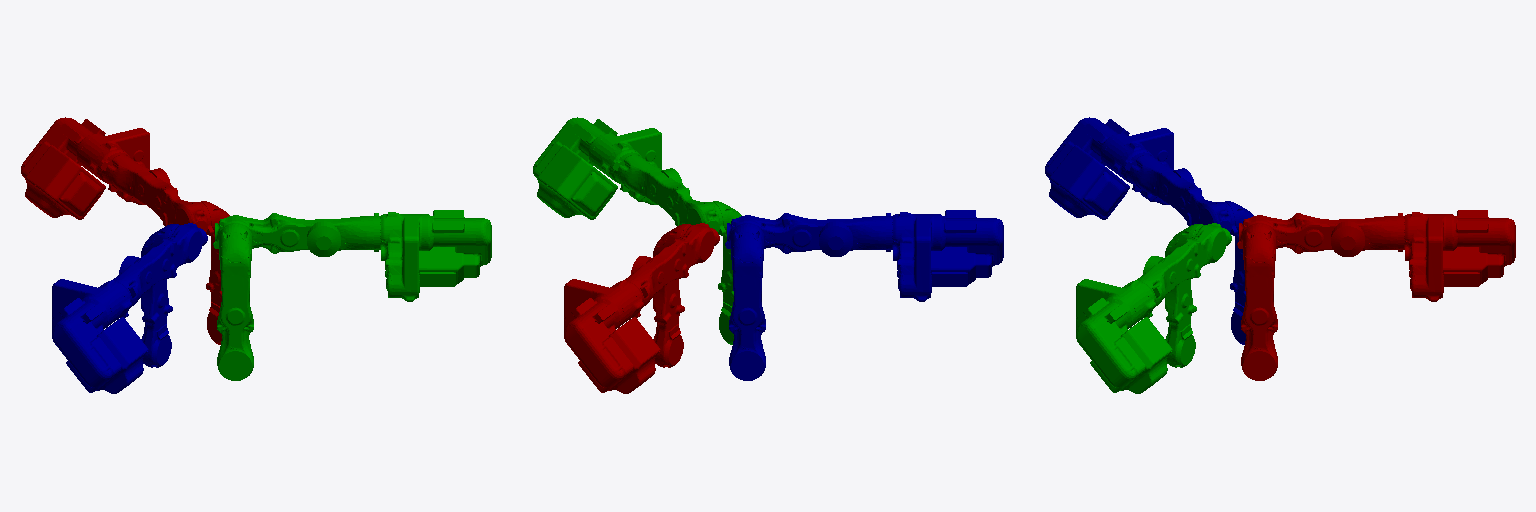
robot.urdf — trifinger_with_stage:
<?xml version="1.0" encoding="utf-8"?>
<!-- =================================================================================== -->
<!-- |    This document was autogenerated by xacro from [local-path]/ws/fingers/workspace/src/catkin/robots/robot_properties/robot_properties_fingers/xacro/trifinger_with_stage.urdf.xacro | -->
<!-- |    EDITING THIS FILE BY HAND IS NOT RECOMMENDED                                 | -->
<!-- =================================================================================== -->
<robot name="trifinger_with_stage">
  <!--
    Frames are defined such that they all align with the base frame when all
    joints are at position zero.

    In zero-configuration the origins of all joints are in one line.

    In zero-configuration the origin of the base link is exactly above the
    finger tip which should make it easy to place the finger in the world.
    -->
  <!-- Define the global base_link and place all other objects relative to it. -->
  <link name="base_link">
    <inertial>
      <origin rpy="0 0 0" xyz="0 0 0"/>
      <mass value="1"/>
      <inertia ixx="4.16666666667e-06" ixy="0" ixz="0" iyy="4.16666666667e-06" iyz="0" izz="4.16666666667e-06"/>
    </inertial>
  </link>
  <!-- Define the upper holder -->
  <link name="upper_holder_link"/>
  <joint name="base_to_upper_holder_joint" type="fixed">
    <parent link="base_link"/>
    <child link="upper_holder_link"/>
    <origin xyz="0 0 0.34"/>
  </joint>
  <material name="finger_0_material">
    <color rgba="0.6 0.0 0.0 1.0"/>
  </material>
  <material name="finger_120_material">
    <color rgba="0.0 0.6 0.0 1.0"/>
  </material>
  <material name="finger_240_material">
    <color rgba="0.0 0.0 0.6 1.0"/>
  </material>
  <!--
        Fixed links for the finger base (parts where the upper link is mounted).
        -->
  <link name="finger_base_link_0">
    <visual>
      <origin rpy="0 0 0" xyz="0 0.179 0"/>
      <geometry>
        <mesh filename="package://robot_properties_fingers/meshes/stl/SIM__BL-Finger_Base.stl" scale="1 1 1"/>
      </geometry>
      <material name="finger_0_material"/>
    </visual>
    <collision>
      <origin rpy="0 0 0" xyz="0 0.179 0"/>
      <geometry>
        <mesh filename="package://robot_properties_fingers/meshes/stl/SIM__BL-Finger_Base.stl" scale="1 1 1"/>
      </geometry>
    </collision>
    <inertial>
      <origin rpy="0 0 0" xyz="0 0 0"/>
      <mass value="1"/>
      <inertia ixx="0.000416666666667" ixy="0" ixz="0" iyy="0.000416666666667" iyz="0" izz="0.000416666666667"/>
    </inertial>
  </link>
  <!-- The movable links (upper, middle and lower) of the finger. -->
  <!-- TODO inertia parameters don't look correct, they cant be same for upper and middle! -->
  <link name="finger_upper_link_0">
    <visual>
      <origin rpy="0 0 0" xyz="0 -0.02695 0"/>
      <geometry>
        <mesh filename="package://robot_properties_fingers/meshes/stl/SIM__BL-Finger_Proximal.stl" scale="1 1 1"/>
      </geometry>
      <material name="finger_0_material"/>
    </visual>
    <collision>
      <origin rpy="0 0 0" xyz="0 -0.02695 0"/>
      <geometry>
        <mesh filename="package://robot_properties_fingers/meshes/stl/SIM__BL-Finger_Proximal.stl" scale="1 1 1"/>
      </geometry>
    </collision>
    <inertial>
      <origin rpy="0 0 0" xyz="0 0.06 0"/>
      <mass value="0.2"/>
      <inertia ixx="0.000353333333333" ixy="0" ixz="0" iyy="5.33333333333e-05" iyz="0" izz="0.000353333333333"/>
    </inertial>
  </link>
  <link name="finger_middle_link_0">
    <visual>
      <origin rpy="1.57079632679 0 0" xyz="0.014 0 0"/>
      <geometry>
        <mesh filename="package://robot_properties_fingers/meshes/stl/SIM__BL-Finger_Intermediate.stl" scale="1 1 1"/>
      </geometry>
      <material name="finger_0_material"/>
    </visual>
    <collision>
      <origin rpy="1.57079632679 0 0" xyz="0.014 0 0"/>
      <geometry>
        <mesh filename="package://robot_properties_fingers/meshes/stl/SIM__BL-Finger_Intermediate.stl" scale="1 1 1"/>
      </geometry>
    </collision>
    <inertial>
      <origin rpy="0 0 0" xyz="0.028 0 -0.08"/>
      <mass value="0.2"/>
      <inertia ixx="0.000353333333333" ixy="0" ixz="0" iyy="0.000353333333333" iyz="0" izz="5.33333333333e-05"/>
    </inertial>
  </link>
  <link name="finger_lower_link_0">
    <visual>
      <origin rpy="1.57079632679 0 0" xyz="0.014 0 0"/>
      <geometry>
        <mesh filename="package://robot_properties_fingers/meshes/stl/SIM_BL_FINGER_TIP_LINK.stl" scale="1 1 1"/>
      </geometry>
      <material name="finger_0_material"/>
    </visual>
    <collision>
      <origin rpy="1.57079632679 0 0" xyz="0.014 0 0"/>
      <geometry>
        <mesh filename="package://robot_properties_fingers/meshes/stl/SIM_BL_FINGER_TIP_LINK.stl" scale="1 1 1"/>
      </geometry>
    </collision>
    <inertial>
      <origin rpy="0 0 0" xyz="0 0 -0.06"/>
      <mass value="0.01"/>
      <inertia ixx="1.66666666667e-05" ixy="0" ixz="0" iyy="1.66666666667e-05" iyz="0" izz="6.66666666667e-07"/>
    </inertial>
  </link>
  <!-- fixed link for finger tip -->
  <link name="finger_tip_link_0">
    <inertial>
      <origin rpy="0 0 0" xyz="0 0 0"/>
      <mass value="0.02"/>
      <inertia ixx="3.33333333333e-07" ixy="0" ixz="0" iyy="3.33333333333e-07" iyz="0" izz="3.33333333333e-07"/>
    </inertial>
  </link>
  <joint name="finger_lower_to_tip_joint_0" type="fixed">
    <parent link="finger_lower_link_0"/>
    <child link="finger_tip_link_0"/>
    <origin xyz="0 0 -0.16"/>
  </joint>
  <!-- kinematics -->
  <!-- TODO: joint limits are based on values from wiki
        (https://atlas.is.localnet/confluence/display/AMDW/Forward+Kinematics) but
        should be verified on the real system (especially the finger tip limits look
        a bit too big when visualizing the model. -->
  <joint name="finger_base_to_upper_joint_0" type="revolute">
    <parent link="finger_base_link_0"/>
    <child link="finger_upper_link_0"/>
    <limit effort="1000" lower="-1.57079632679" upper="1.57079632679" velocity="1000"/>
    <axis xyz="0 1 0"/>
    <origin rpy="0 0 0" xyz="0 0 0"/>
  </joint>
  <joint name="finger_upper_to_middle_joint_0" type="revolute">
    <parent link="finger_upper_link_0"/>
    <child link="finger_middle_link_0"/>
    <limit effort="1000" lower="-1.3526301703" upper="4.49422282389" velocity="1000"/>
    <axis xyz="-1 0 0"/>
    <origin rpy="0 0 0" xyz="0 0 0"/>
  </joint>
  <joint name="finger_middle_to_lower_joint_0" type="revolute">
    <parent link="finger_middle_link_0"/>
    <child link="finger_lower_link_0"/>
    <limit effort="1000" lower="-3.00196631343" upper="3.00196631343" velocity="1000"/>
    <axis xyz="1 0 0"/>
    <origin rpy="0 0 0" xyz="0 0 -0.16"/>
  </joint>
  <!--
        Fixed links for the finger base (parts where the upper link is mounted).
        -->
  <link name="finger_base_link_120">
    <visual>
      <origin rpy="0 0 0" xyz="0 0.179 0"/>
      <geometry>
        <mesh filename="package://robot_properties_fingers/meshes/stl/SIM__BL-Finger_Base.stl" scale="1 1 1"/>
      </geometry>
      <material name="finger_120_material"/>
    </visual>
    <collision>
      <origin rpy="0 0 0" xyz="0 0.179 0"/>
      <geometry>
        <mesh filename="package://robot_properties_fingers/meshes/stl/SIM__BL-Finger_Base.stl" scale="1 1 1"/>
      </geometry>
    </collision>
    <inertial>
      <origin rpy="0 0 0" xyz="0 0 0"/>
      <mass value="1"/>
      <inertia ixx="0.000416666666667" ixy="0" ixz="0" iyy="0.000416666666667" iyz="0" izz="0.000416666666667"/>
    </inertial>
  </link>
  <!-- The movable links (upper, middle and lower) of the finger. -->
  <!-- TODO inertia parameters don't look correct, they cant be same for upper and middle! -->
  <link name="finger_upper_link_120">
    <visual>
      <origin rpy="0 0 0" xyz="0 -0.02695 0"/>
      <geometry>
        <mesh filename="package://robot_properties_fingers/meshes/stl/SIM__BL-Finger_Proximal.stl" scale="1 1 1"/>
      </geometry>
      <material name="finger_120_material"/>
    </visual>
    <collision>
      <origin rpy="0 0 0" xyz="0 -0.02695 0"/>
      <geometry>
        <mesh filename="package://robot_properties_fingers/meshes/stl/SIM__BL-Finger_Proximal.stl" scale="1 1 1"/>
      </geometry>
    </collision>
    <inertial>
      <origin rpy="0 0 0" xyz="0 0.06 0"/>
      <mass value="0.2"/>
      <inertia ixx="0.000353333333333" ixy="0" ixz="0" iyy="5.33333333333e-05" iyz="0" izz="0.000353333333333"/>
    </inertial>
  </link>
  <link name="finger_middle_link_120">
    <visual>
      <origin rpy="1.57079632679 0 0" xyz="0.014 0 0"/>
      <geometry>
        <mesh filename="package://robot_properties_fingers/meshes/stl/SIM__BL-Finger_Intermediate.stl" scale="1 1 1"/>
      </geometry>
      <material name="finger_120_material"/>
    </visual>
    <collision>
      <origin rpy="1.57079632679 0 0" xyz="0.014 0 0"/>
      <geometry>
        <mesh filename="package://robot_properties_fingers/meshes/stl/SIM__BL-Finger_Intermediate.stl" scale="1 1 1"/>
      </geometry>
    </collision>
    <inertial>
      <origin rpy="0 0 0" xyz="0.028 0 -0.08"/>
      <mass value="0.2"/>
      <inertia ixx="0.000353333333333" ixy="0" ixz="0" iyy="0.000353333333333" iyz="0" izz="5.33333333333e-05"/>
    </inertial>
  </link>
  <link name="finger_lower_link_120">
    <visual>
      <origin rpy="1.57079632679 0 0" xyz="0.014 0 0"/>
      <geometry>
        <mesh filename="package://robot_properties_fingers/meshes/stl/SIM_BL_FINGER_TIP_LINK.stl" scale="1 1 1"/>
      </geometry>
      <material name="finger_120_material"/>
    </visual>
    <collision>
      <origin rpy="1.57079632679 0 0" xyz="0.014 0 0"/>
      <geometry>
        <mesh filename="package://robot_properties_fingers/meshes/stl/SIM_BL_FINGER_TIP_LINK.stl" scale="1 1 1"/>
      </geometry>
    </collision>
    <inertial>
      <origin rpy="0 0 0" xyz="0 0 -0.06"/>
      <mass value="0.01"/>
      <inertia ixx="1.66666666667e-05" ixy="0" ixz="0" iyy="1.66666666667e-05" iyz="0" izz="6.66666666667e-07"/>
    </inertial>
  </link>
  <!-- fixed link for finger tip -->
  <link name="finger_tip_link_120">
    <inertial>
      <origin rpy="0 0 0" xyz="0 0 0"/>
      <mass value="0.02"/>
      <inertia ixx="3.33333333333e-07" ixy="0" ixz="0" iyy="3.33333333333e-07" iyz="0" izz="3.33333333333e-07"/>
    </inertial>
  </link>
  <joint name="finger_lower_to_tip_joint_120" type="fixed">
    <parent link="finger_lower_link_120"/>
    <child link="finger_tip_link_120"/>
    <origin xyz="0 0 -0.16"/>
  </joint>
  <!-- kinematics -->
  <!-- TODO: joint limits are based on values from wiki
        (https://atlas.is.localnet/confluence/display/AMDW/Forward+Kinematics) but
        should be verified on the real system (especially the finger tip limits look
        a bit too big when visualizing the model. -->
  <joint name="finger_base_to_upper_joint_120" type="revolute">
    <parent link="finger_base_link_120"/>
    <child link="finger_upper_link_120"/>
    <limit effort="1000" lower="-1.57079632679" upper="1.57079632679" velocity="1000"/>
    <axis xyz="0 1 0"/>
    <origin rpy="0 0 0" xyz="0 0 0"/>
  </joint>
  <joint name="finger_upper_to_middle_joint_120" type="revolute">
    <parent link="finger_upper_link_120"/>
    <child link="finger_middle_link_120"/>
    <limit effort="1000" lower="-1.3526301703" upper="4.49422282389" velocity="1000"/>
    <axis xyz="-1 0 0"/>
    <origin rpy="0 0 0" xyz="0 0 0"/>
  </joint>
  <joint name="finger_middle_to_lower_joint_120" type="revolute">
    <parent link="finger_middle_link_120"/>
    <child link="finger_lower_link_120"/>
    <limit effort="1000" lower="-3.00196631343" upper="3.00196631343" velocity="1000"/>
    <axis xyz="1 0 0"/>
    <origin rpy="0 0 0" xyz="0 0 -0.16"/>
  </joint>
  <!--
        Fixed links for the finger base (parts where the upper link is mounted).
        -->
  <link name="finger_base_link_240">
    <visual>
      <origin rpy="0 0 0" xyz="0 0.179 0"/>
      <geometry>
        <mesh filename="package://robot_properties_fingers/meshes/stl/SIM__BL-Finger_Base.stl" scale="1 1 1"/>
      </geometry>
      <material name="finger_240_material"/>
    </visual>
    <collision>
      <origin rpy="0 0 0" xyz="0 0.179 0"/>
      <geometry>
        <mesh filename="package://robot_properties_fingers/meshes/stl/SIM__BL-Finger_Base.stl" scale="1 1 1"/>
      </geometry>
    </collision>
    <inertial>
      <origin rpy="0 0 0" xyz="0 0 0"/>
      <mass value="1"/>
      <inertia ixx="0.000416666666667" ixy="0" ixz="0" iyy="0.000416666666667" iyz="0" izz="0.000416666666667"/>
    </inertial>
  </link>
  <!-- The movable links (upper, middle and lower) of the finger. -->
  <!-- TODO inertia parameters don't look correct, they cant be same for upper and middle! -->
  <link name="finger_upper_link_240">
    <visual>
      <origin rpy="0 0 0" xyz="0 -0.02695 0"/>
      <geometry>
        <mesh filename="package://robot_properties_fingers/meshes/stl/SIM__BL-Finger_Proximal.stl" scale="1 1 1"/>
      </geometry>
      <material name="finger_240_material"/>
    </visual>
    <collision>
      <origin rpy="0 0 0" xyz="0 -0.02695 0"/>
      <geometry>
        <mesh filename="package://robot_properties_fingers/meshes/stl/SIM__BL-Finger_Proximal.stl" scale="1 1 1"/>
      </geometry>
    </collision>
    <inertial>
      <origin rpy="0 0 0" xyz="0 0.06 0"/>
      <mass value="0.2"/>
      <inertia ixx="0.000353333333333" ixy="0" ixz="0" iyy="5.33333333333e-05" iyz="0" izz="0.000353333333333"/>
    </inertial>
  </link>
  <link name="finger_middle_link_240">
    <visual>
      <origin rpy="1.57079632679 0 0" xyz="0.014 0 0"/>
      <geometry>
        <mesh filename="package://robot_properties_fingers/meshes/stl/SIM__BL-Finger_Intermediate.stl" scale="1 1 1"/>
      </geometry>
      <material name="finger_240_material"/>
    </visual>
    <collision>
      <origin rpy="1.57079632679 0 0" xyz="0.014 0 0"/>
      <geometry>
        <mesh filename="package://robot_properties_fingers/meshes/stl/SIM__BL-Finger_Intermediate.stl" scale="1 1 1"/>
      </geometry>
    </collision>
    <inertial>
      <origin rpy="0 0 0" xyz="0.028 0 -0.08"/>
      <mass value="0.2"/>
      <inertia ixx="0.000353333333333" ixy="0" ixz="0" iyy="0.000353333333333" iyz="0" izz="5.33333333333e-05"/>
    </inertial>
  </link>
  <link name="finger_lower_link_240">
    <visual>
      <origin rpy="1.57079632679 0 0" xyz="0.014 0 0"/>
      <geometry>
        <mesh filename="package://robot_properties_fingers/meshes/stl/SIM_BL_FINGER_TIP_LINK.stl" scale="1 1 1"/>
      </geometry>
      <material name="finger_240_material"/>
    </visual>
    <collision>
      <origin rpy="1.57079632679 0 0" xyz="0.014 0 0"/>
      <geometry>
        <mesh filename="package://robot_properties_fingers/meshes/stl/SIM_BL_FINGER_TIP_LINK.stl" scale="1 1 1"/>
      </geometry>
    </collision>
    <inertial>
      <origin rpy="0 0 0" xyz="0 0 -0.06"/>
      <mass value="0.01"/>
      <inertia ixx="1.66666666667e-05" ixy="0" ixz="0" iyy="1.66666666667e-05" iyz="0" izz="6.66666666667e-07"/>
    </inertial>
  </link>
  <!-- fixed link for finger tip -->
  <link name="finger_tip_link_240">
    <inertial>
      <origin rpy="0 0 0" xyz="0 0 0"/>
      <mass value="0.02"/>
      <inertia ixx="3.33333333333e-07" ixy="0" ixz="0" iyy="3.33333333333e-07" iyz="0" izz="3.33333333333e-07"/>
    </inertial>
  </link>
  <joint name="finger_lower_to_tip_joint_240" type="fixed">
    <parent link="finger_lower_link_240"/>
    <child link="finger_tip_link_240"/>
    <origin xyz="0 0 -0.16"/>
  </joint>
  <!-- kinematics -->
  <!-- TODO: joint limits are based on values from wiki
        (https://atlas.is.localnet/confluence/display/AMDW/Forward+Kinematics) but
        should be verified on the real system (especially the finger tip limits look
        a bit too big when visualizing the model. -->
  <joint name="finger_base_to_upper_joint_240" type="revolute">
    <parent link="finger_base_link_240"/>
    <child link="finger_upper_link_240"/>
    <limit effort="1000" lower="-1.57079632679" upper="1.57079632679" velocity="1000"/>
    <axis xyz="0 1 0"/>
    <origin rpy="0 0 0" xyz="0 0 0"/>
  </joint>
  <joint name="finger_upper_to_middle_joint_240" type="revolute">
    <parent link="finger_upper_link_240"/>
    <child link="finger_middle_link_240"/>
    <limit effort="1000" lower="-1.3526301703" upper="4.49422282389" velocity="1000"/>
    <axis xyz="-1 0 0"/>
    <origin rpy="0 0 0" xyz="0 0 0"/>
  </joint>
  <joint name="finger_middle_to_lower_joint_240" type="revolute">
    <parent link="finger_middle_link_240"/>
    <child link="finger_lower_link_240"/>
    <limit effort="1000" lower="-3.00196631343" upper="3.00196631343" velocity="1000"/>
    <axis xyz="1 0 0"/>
    <origin rpy="0 0 0" xyz="0 0 -0.16"/>
  </joint>
  <joint name="holder_to_finger_0" type="fixed">
    <parent link="upper_holder_link"/>
    <child link="finger_base_link_0"/>
    <origin rpy="0 0 0" xyz="0.0 0.04 0"/>
  </joint>
  <joint name="holder_to_finger_120" type="fixed">
    <parent link="upper_holder_link"/>
    <child link="finger_base_link_120"/>
    <origin rpy="0 0 -2.09439510239" xyz="0.0346410161514 -0.02 0"/>
  </joint>
  <joint name="holder_to_finger_240" type="fixed">
    <parent link="upper_holder_link"/>
    <child link="finger_base_link_240"/>
    <origin rpy="0 0 -4.18879020479" xyz="-0.0346410161514 -0.02 0"/>
  </joint>
  <material name="table_material">
    <color rgba="0.31 0.27 0.25 1.0"/>
  </material>
  <material name="boundary_material">
    <color rgba="0.95 0.95 0.95 1.0"/>
  </material>
  <link name="table_link">
    <visual>
      <origin rpy="0 0 0" xyz="0 0 0"/>
      <geometry>
        <mesh filename="package://robot_properties_fingers/meshes/stl/trifinger_table_without_border.stl" scale="1 1 1"/>
      </geometry>
      <material name="table_material"/>
    </visual>
    <collision>
      <origin rpy="0 0 0" xyz="0 0 0"/>
      <geometry>
        <mesh filename="package://robot_properties_fingers/meshes/stl/trifinger_table_without_border.stl" scale="1 1 1"/>
      </geometry>
    </collision>
    <inertial>
      <origin rpy="0 0 0" xyz="0 0 0"/>
      <mass value="2"/>
      <inertia ixx="0.0962833333333" ixy="0" ixz="0" iyy="0.0840333333333" iyz="0" izz="0.180283333333"/>
    </inertial>
  </link>
  <link name="boundary_link">
    <visual>
      <origin rpy="0 0 0" xyz="0 0 0"/>
      <geometry>
        <mesh filename="package://robot_properties_fingers/meshes/stl/high_table_boundary.stl" scale="1 1 1"/>
      </geometry>
      <material name="boundary_material"/>
    </visual>
    <collision>
      <origin rpy="0 0 0" xyz="0 0 0"/>
      <geometry>
        <mesh filename="package://robot_properties_fingers/meshes/stl/high_table_boundary.stl" scale="1 1 1"/>
      </geometry>
    </collision>
    <inertial>
      <origin rpy="0 0 0" xyz="0 0 0"/>
      <mass value="2"/>
      <inertia ixx="0.0570833333333" ixy="0" ixz="0" iyy="0.0570833333333" iyz="0" izz="0.104533333333"/>
    </inertial>
  </link>
  <joint name="base_to_table" type="fixed">
    <parent link="base_link"/>
    <child link="table_link"/>
    <origin xyz="0 0 0"/>
  </joint>
  <joint name="table_to_boundary" type="fixed">
    <parent link="table_link"/>
    <child link="boundary_link"/>
    <origin xyz="0 0 0"/>
  </joint>
</robot>

--- Render facts (derived) ---
3 views of the same robot in one strip: view 1: azimuth 30°, elevation 25°; view 2: azimuth 150°, elevation 25°; view 3: azimuth 270°, elevation 25° (orthographic).
Robot: trifinger_with_stage — 19 links, 18 joints (9 revolute, 9 fixed); root link base_link; default pose: every joint at zero.
Links seen in each view (by area): view 1: finger_base_link_240, finger_base_link_120, finger_base_link_0, finger_middle_link_120, finger_upper_link_120, finger_upper_link_0, finger_upper_link_240, finger_middle_link_240, finger_middle_link_0; view 2: finger_base_link_0, finger_base_link_240, finger_base_link_120, finger_middle_link_240, finger_upper_link_240, finger_upper_link_120, finger_upper_link_0, finger_middle_link_0, finger_middle_link_120; view 3: finger_base_link_120, finger_base_link_0, finger_base_link_240, finger_middle_link_0, finger_upper_link_0, finger_upper_link_240, finger_upper_link_120, finger_middle_link_120, finger_middle_link_240.
Link boxes in pixels (<box>): finger_base_link_240: <box>52,279,148,393</box>; finger_base_link_120: <box>374,210,491,301</box>; finger_base_link_0: <box>21,117,149,219</box>; finger_middle_link_120: <box>213,223,253,380</box>; finger_upper_link_120: <box>215,213,376,256</box>; finger_upper_link_0: <box>105,155,207,232</box>; finger_upper_link_240: <box>114,223,207,305</box>; finger_middle_link_240: <box>141,224,183,367</box>; finger_middle_link_0: <box>198,201,229,344</box>; finger_base_link_0: <box>564,279,660,393</box>; finger_base_link_240: <box>886,210,1003,301</box>; finger_base_link_120: <box>533,117,661,219</box>; finger_middle_link_240: <box>725,223,765,380</box>; finger_upper_link_240: <box>727,213,888,256</box>; finger_upper_link_120: <box>617,155,719,232</box>; finger_upper_link_0: <box>626,223,719,305</box>; finger_middle_link_0: <box>653,224,695,367</box>; finger_middle_link_120: <box>710,201,741,344</box>; finger_base_link_120: <box>1076,279,1172,393</box>; finger_base_link_0: <box>1398,210,1515,301</box>; finger_base_link_240: <box>1045,117,1173,219</box>; finger_middle_link_0: <box>1237,223,1277,380</box>; finger_upper_link_0: <box>1239,213,1400,256</box>; finger_upper_link_240: <box>1129,155,1231,232</box>; finger_upper_link_120: <box>1138,223,1231,305</box>; finger_middle_link_120: <box>1165,224,1207,367</box>; finger_middle_link_240: <box>1222,201,1253,344</box>.
Bounding box of the posed robot: 0.6747 × 0.6078 × 0.2128 m (x, y, z).
Meshes: 6 distinct files referenced, 9 mesh visuals loaded (3 binary STL); not drawn: 5 (reference not matched to a file when rendering).